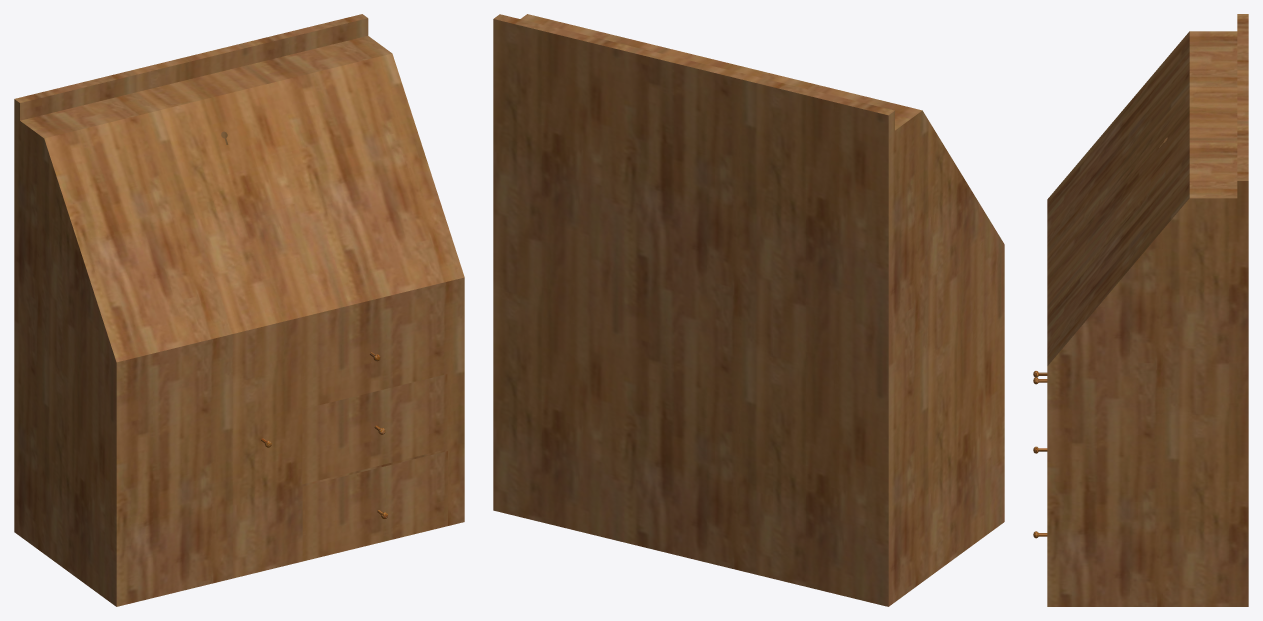
3 views of the same model, side by side, from view 1: azimuth 30°, elevation 25°; view 2: azimuth 150°, elevation 25°; view 3: azimuth 270°, elevation 25° (orthographic). The views are drawn at different scales.
Parts seen in each view (by area): view 1: SketchUp (×4); view 2: SketchUp; view 3: SketchUp.
Part boxes in pixels (box(x1,y1,x2,y2)): SketchUp (×4): box(14, 14, 464, 606); SketchUp: box(493, 14, 1004, 606); SketchUp: box(1047, 14, 1248, 606).
Bounding box in the file's own units: 89.76 × 48.82 × 107.
2 materials, 2 textured.
